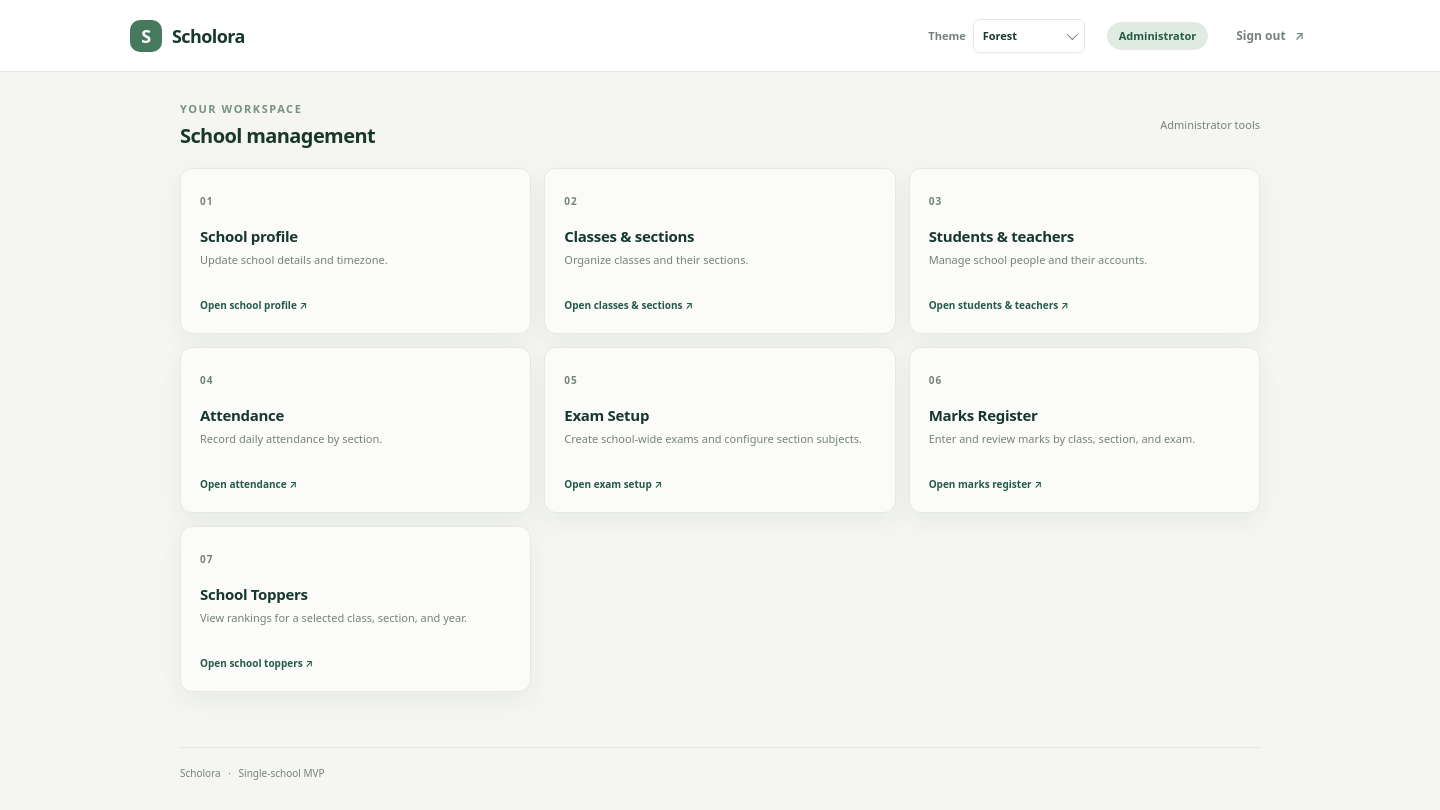
Test: admin and teacher topper dashboards › shows the School Toppers card for ADMIN accounts
(page scrolled)
Click the link named "open school toppers": (356, 609) [180, 526, 531, 692]
(page scrolled)
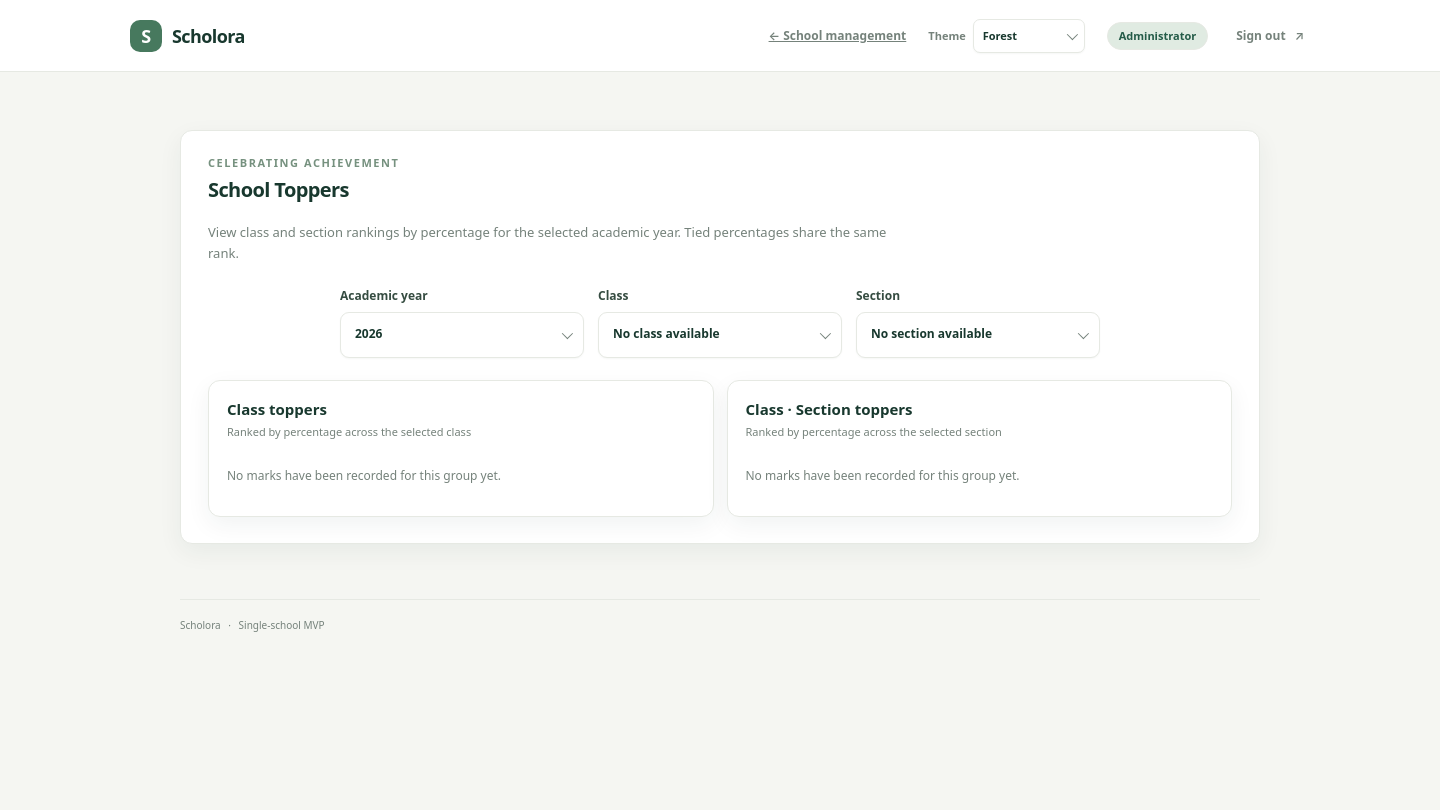
Expected: the heading "School Toppers" is shown, [208, 176, 349, 203]
